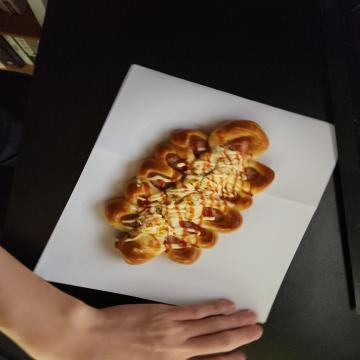pizza_bread: (117, 84, 268, 263)
